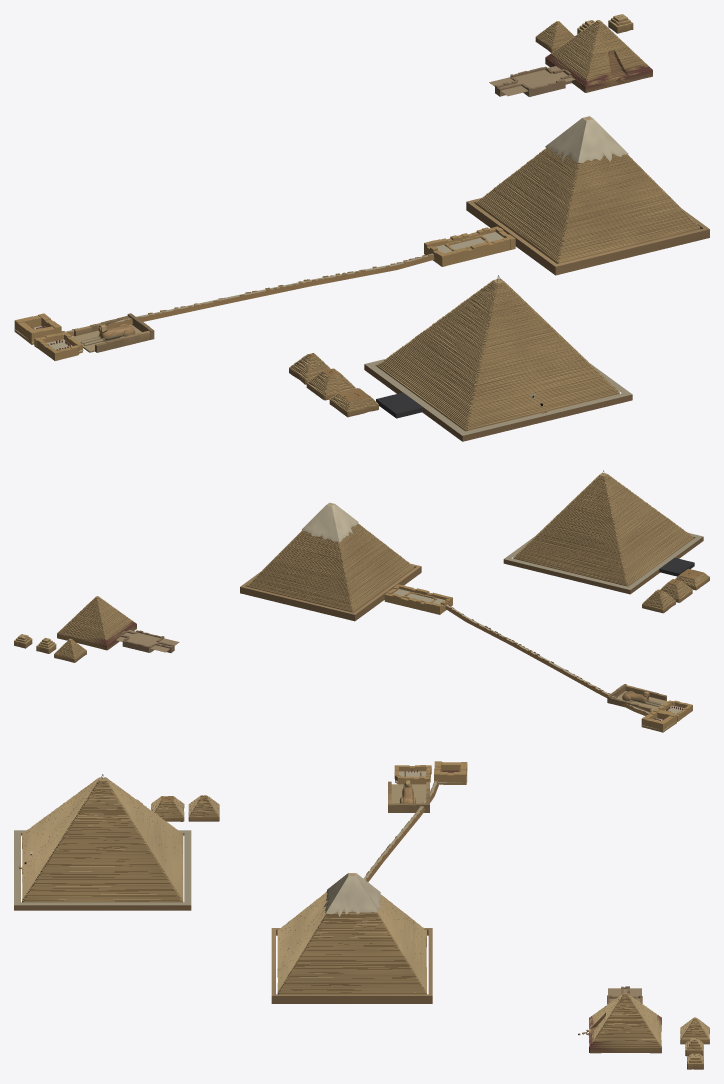
The picture shows the model from 3 angles, top to bottom: view 1: azimuth 30°, elevation 25°; view 2: azimuth 150°, elevation 25°; view 3: azimuth 270°, elevation 25°; orthographic projection. The views are drawn at different scales.
Parts seen in each view (by area): view 1: khufu, khafre, temples, menkaure, queens, causeway, enclosure; view 2: khufu, khafre, temples, menkaure, queens, causeway, enclosure; view 3: khufu, khafre, menkaure, queens, temples, enclosure, causeway.
Boxes of the visible parts, x1,y1,x2,y2 form: khufu: (364, 275, 632, 441); khafre: (466, 116, 709, 275); temples: (14, 66, 574, 360); menkaure: (545, 20, 652, 92); queens: (289, 14, 633, 417); causeway: (61, 253, 434, 336); enclosure: (72, 313, 154, 352); khufu: (503, 470, 703, 594); khafre: (240, 502, 421, 621); temples: (116, 584, 692, 732); menkaure: (57, 596, 136, 650); queens: (14, 568, 709, 662); causeway: (445, 604, 650, 715); enclosure: (607, 684, 667, 712); khufu: (14, 774, 191, 910); khafre: (271, 873, 432, 1003); menkaure: (578, 993, 661, 1053); queens: (137, 795, 709, 1069); temples: (394, 761, 642, 1004); enclosure: (388, 781, 429, 812); causeway: (363, 780, 438, 882).
Bounding box in the file's own units: 1091 × 191 × 983.
